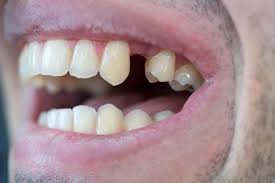decay: (174, 63, 198, 93)
normal: (100, 37, 128, 86), (69, 39, 98, 79), (42, 43, 68, 77), (73, 107, 97, 135), (25, 43, 41, 75), (57, 108, 73, 131), (47, 110, 57, 128), (154, 110, 173, 118), (38, 111, 47, 125)
rough: (149, 51, 177, 85), (129, 48, 148, 82)
yellow: (99, 106, 125, 134), (125, 109, 151, 127)
